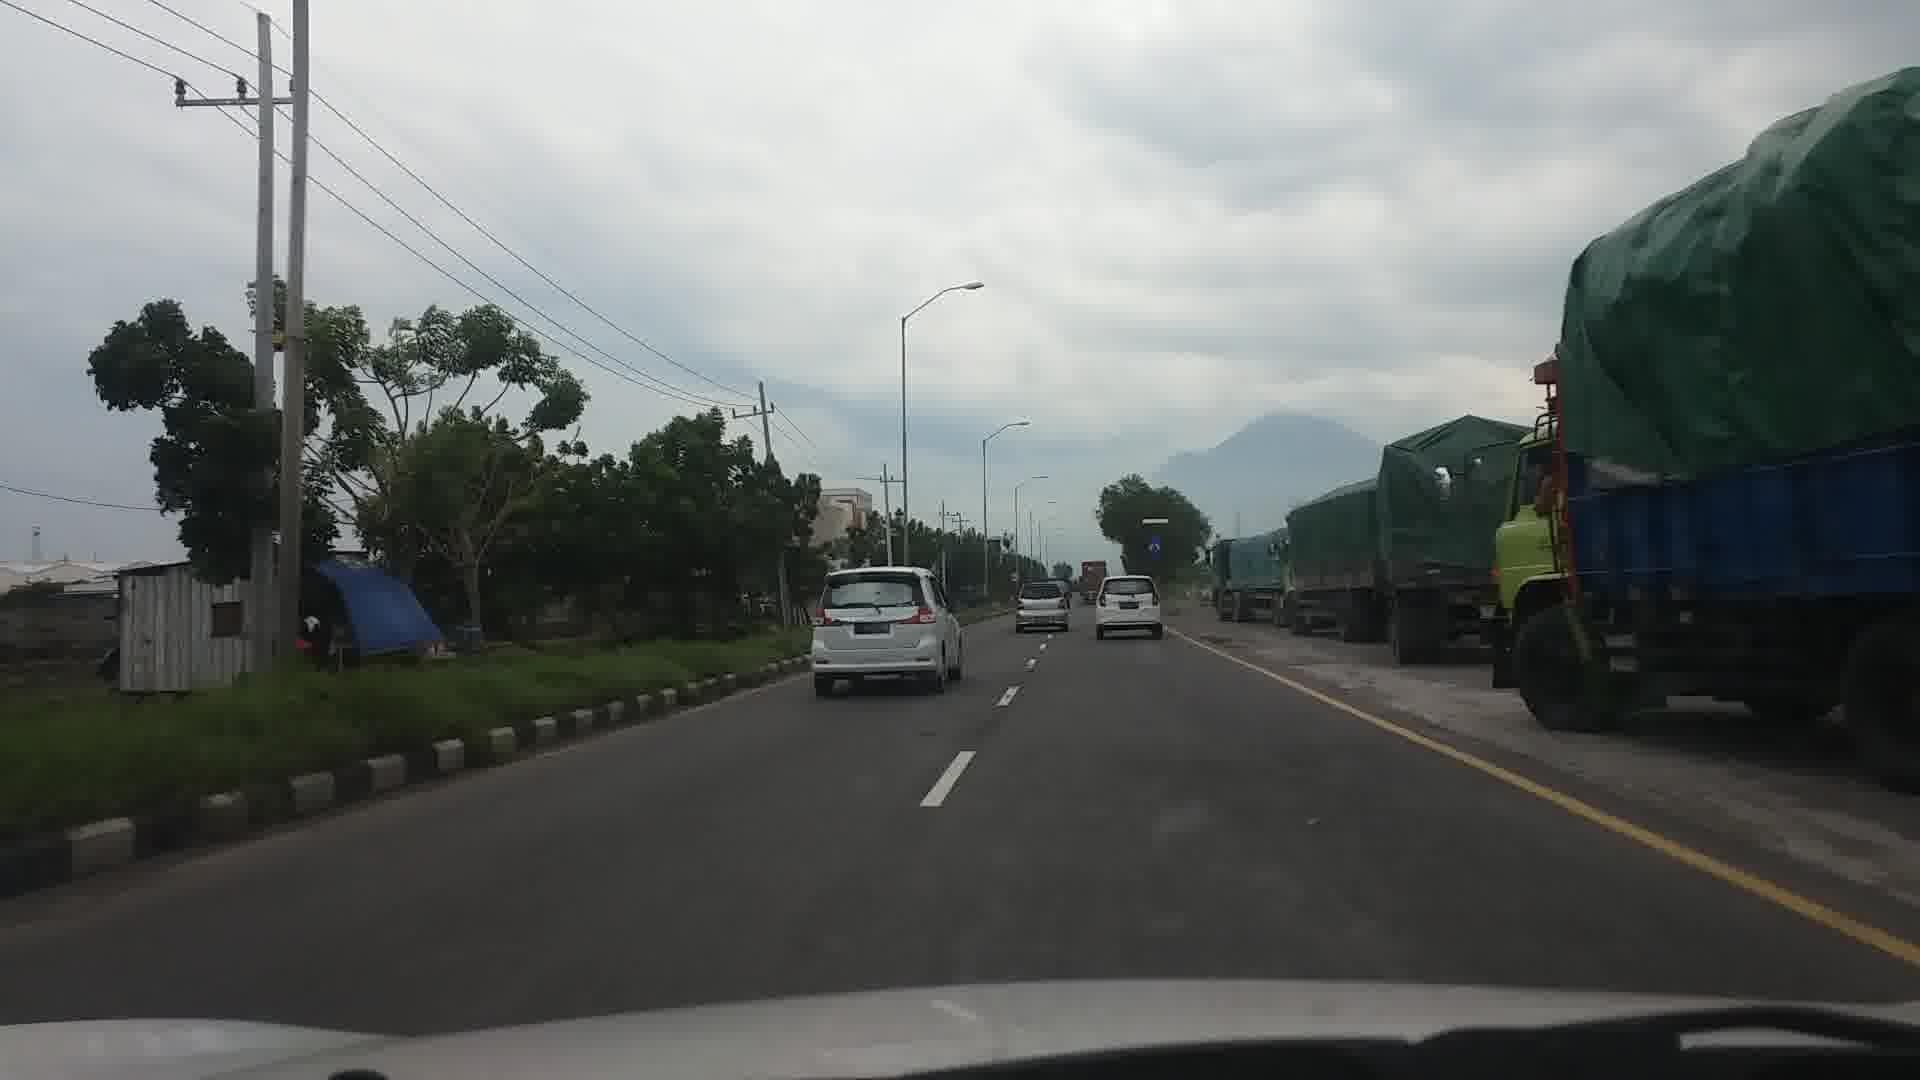plate_positive: (855, 622, 890, 634), (1120, 603, 1139, 611)
